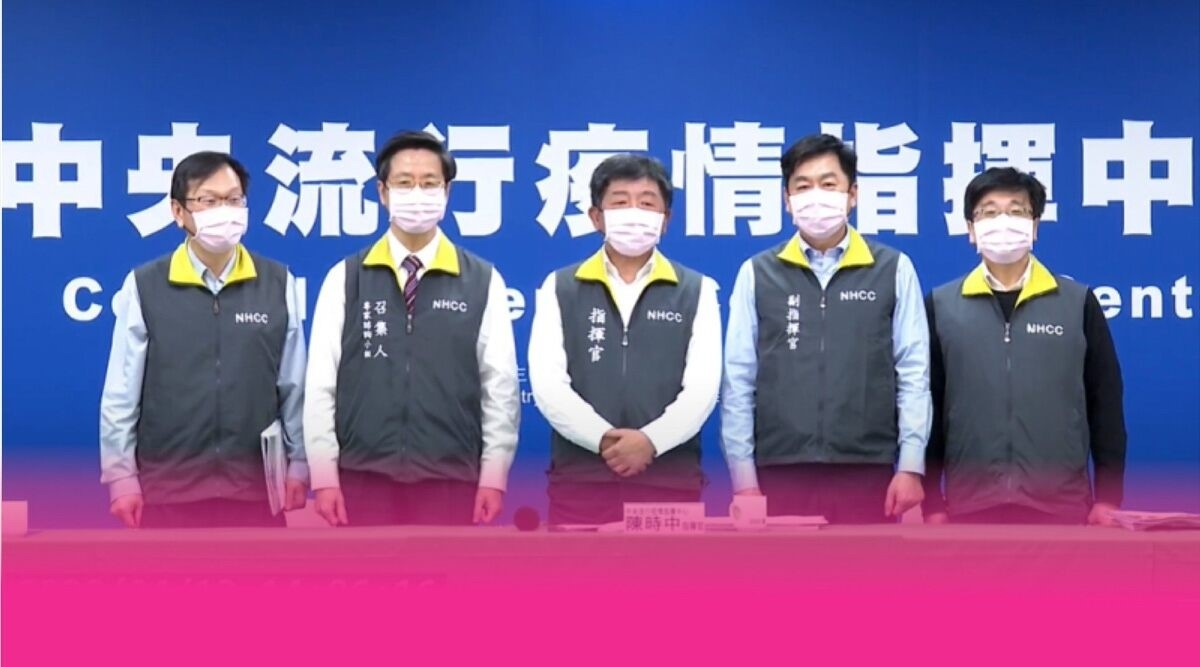face_with_mask: (372, 128, 456, 242), (172, 150, 258, 261), (586, 152, 671, 264), (780, 136, 864, 248), (961, 164, 1043, 267)
